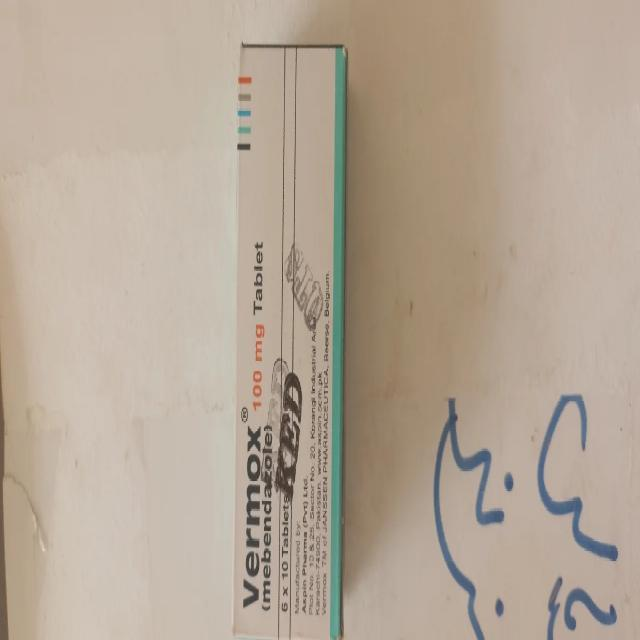drug-name: (242, 426, 262, 610)
